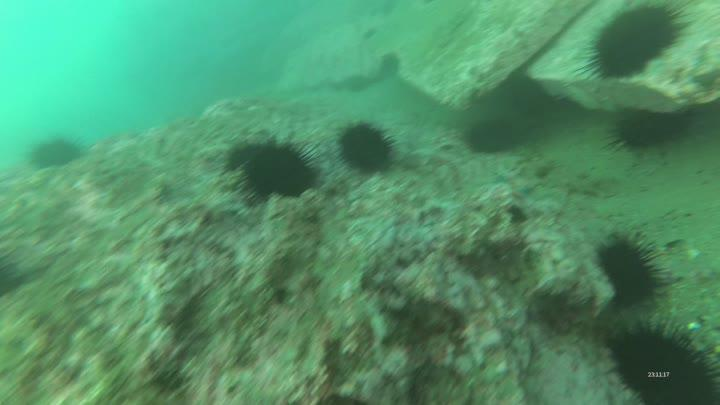urchin: (574, 3, 690, 88), (609, 317, 720, 404), (226, 134, 315, 200), (592, 231, 662, 310), (606, 104, 692, 155), (331, 116, 396, 173), (462, 112, 512, 157), (26, 135, 80, 169)
